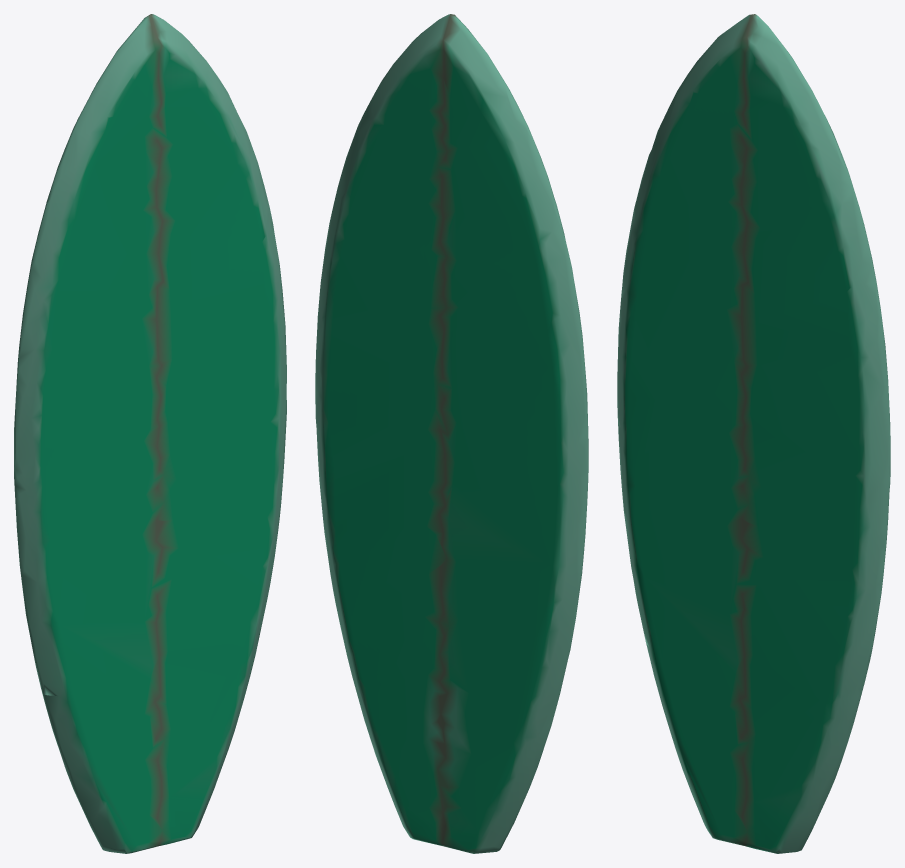
File: gen3d-surfboard-lod0.glb
The picture shows the model from 3 angles, left to right: view 1: azimuth 30°, elevation 25°; view 2: azimuth 150°, elevation 25°; view 3: azimuth 330°, elevation 25°; orthographic projection.
Visible parts, largest first — view 1: part_0; view 2: part_0; view 3: part_0.
Part boxes in pixels (bbox=[...]): part_0: bbox=[14, 14, 286, 853]; part_0: bbox=[315, 14, 588, 853]; part_0: bbox=[617, 14, 890, 853].
Size of the model in its own units: 0.3446 by 1 by 0.0413.
